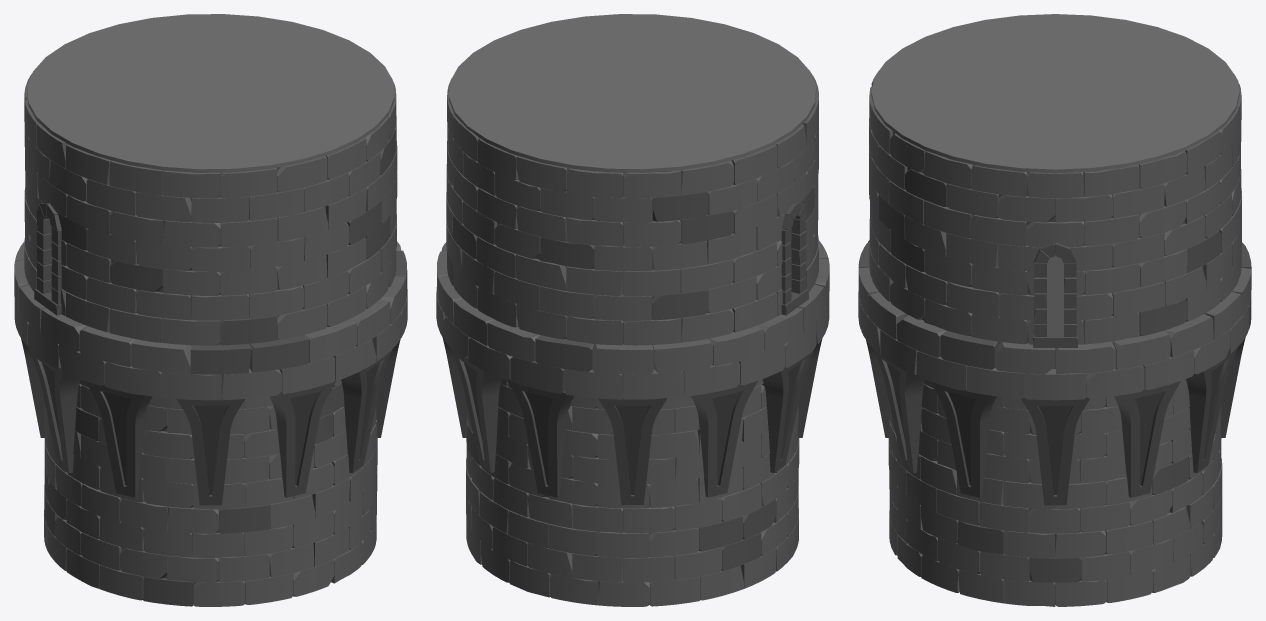
The model's file is Tower_03.fbx.
The picture shows the model from 3 angles, left to right: view 1: azimuth 30°, elevation 25°; view 2: azimuth 150°, elevation 25°; view 3: azimuth 270°, elevation 25°; orthographic projection.
Visible parts, largest first — view 1: Tower_03_LOD0; view 2: Tower_03_LOD0; view 3: Tower_03_LOD0.
Boxes of the visible parts, box(x1,y1,x2,y2) form: Tower_03_LOD0: box(14, 14, 407, 606); Tower_03_LOD0: box(436, 14, 829, 606); Tower_03_LOD0: box(858, 14, 1251, 606).
Size of what is drawn, in the model's own units: 4.84 by 6.05 by 4.84.
